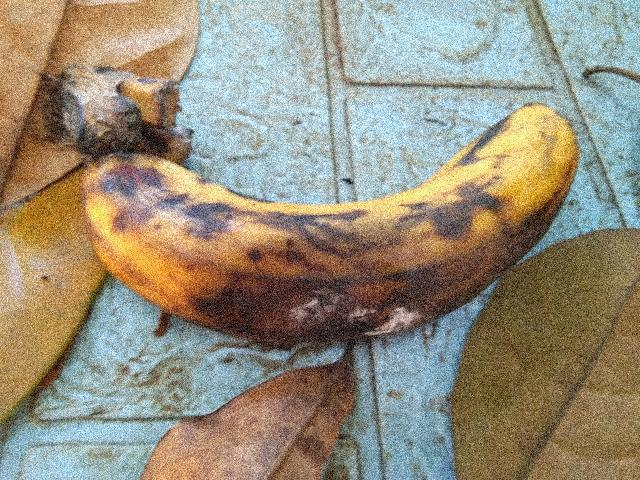rotten: (70, 91, 600, 359)
